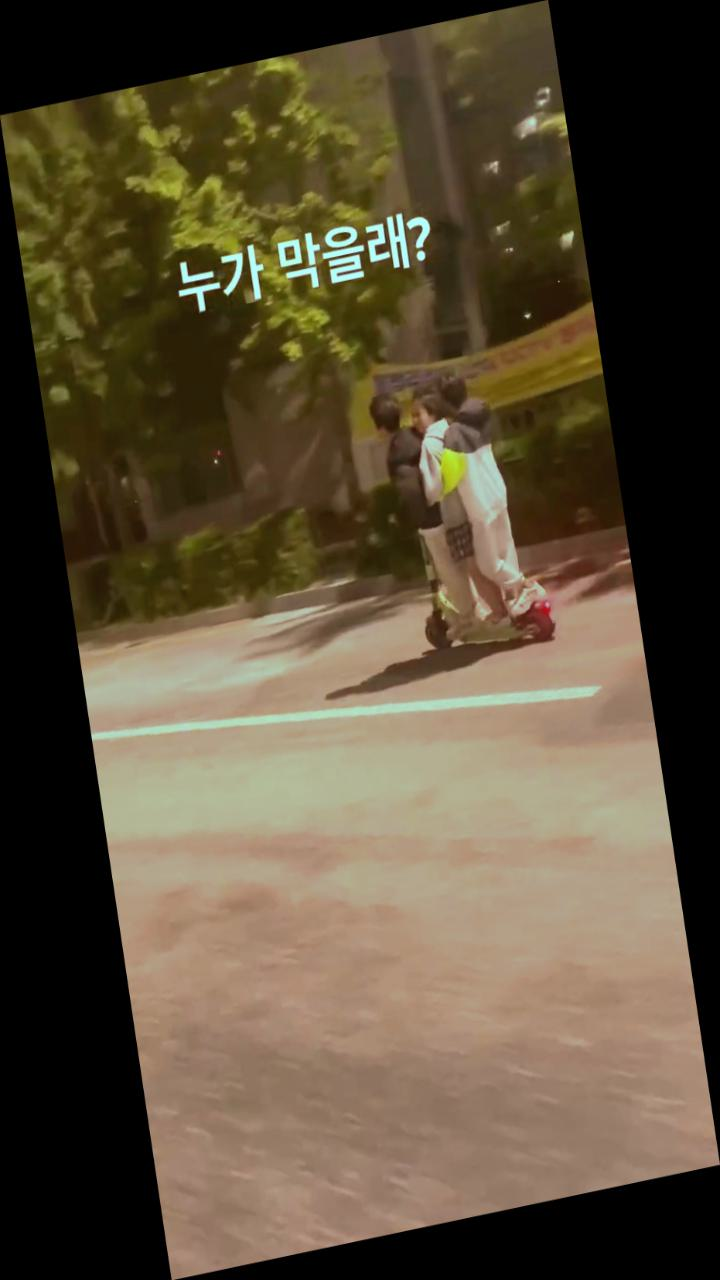multiple: (359, 356, 562, 673)
